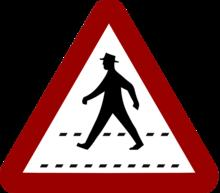Pedestrian Crossing: (24, 20, 215, 177)
